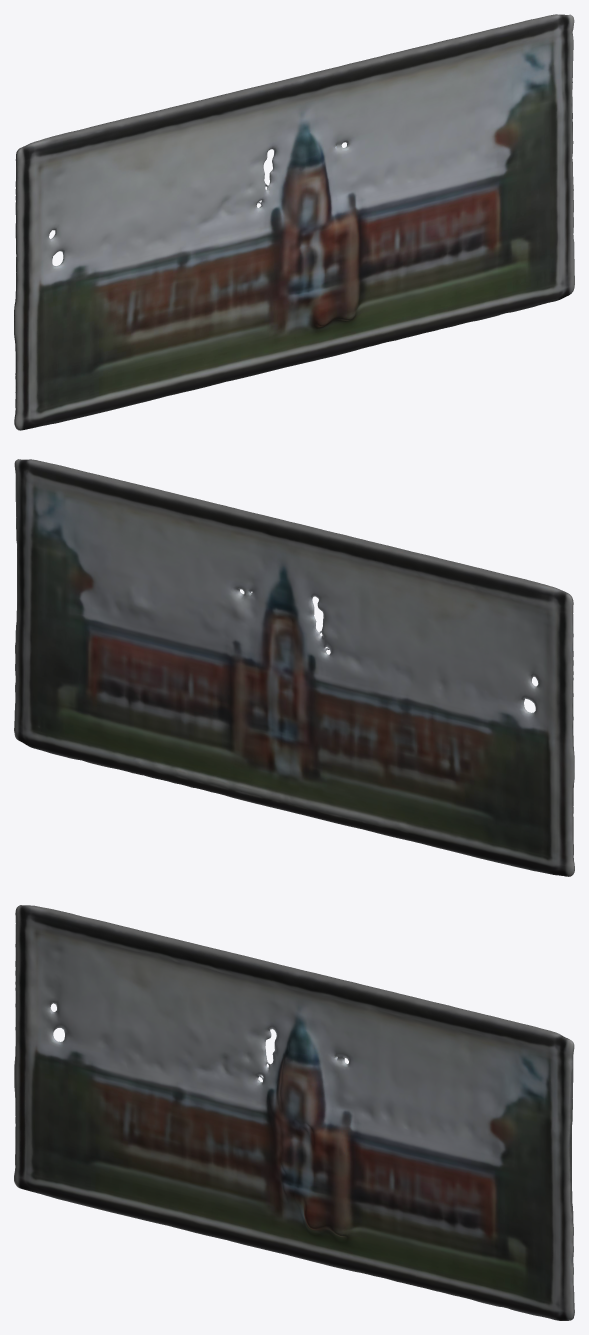
File: 502c47ff21d3_wall_university_pai.fbx
The picture shows the model from 3 angles, top to bottom: view 1: azimuth 30°, elevation 25°; view 2: azimuth 150°, elevation 25°; view 3: azimuth 330°, elevation 25°; orthographic projection.
Parts seen in each view (by area): view 1: high_poly; view 2: high_poly; view 3: high_poly.
Boxes of the visible parts, <box> form: high_poly: <box>14,14,574,430</box>; high_poly: <box>14,459,574,876</box>; high_poly: <box>14,905,574,1320</box>.
Size of the model in its own units: 100 by 49.24 by 3.85.
